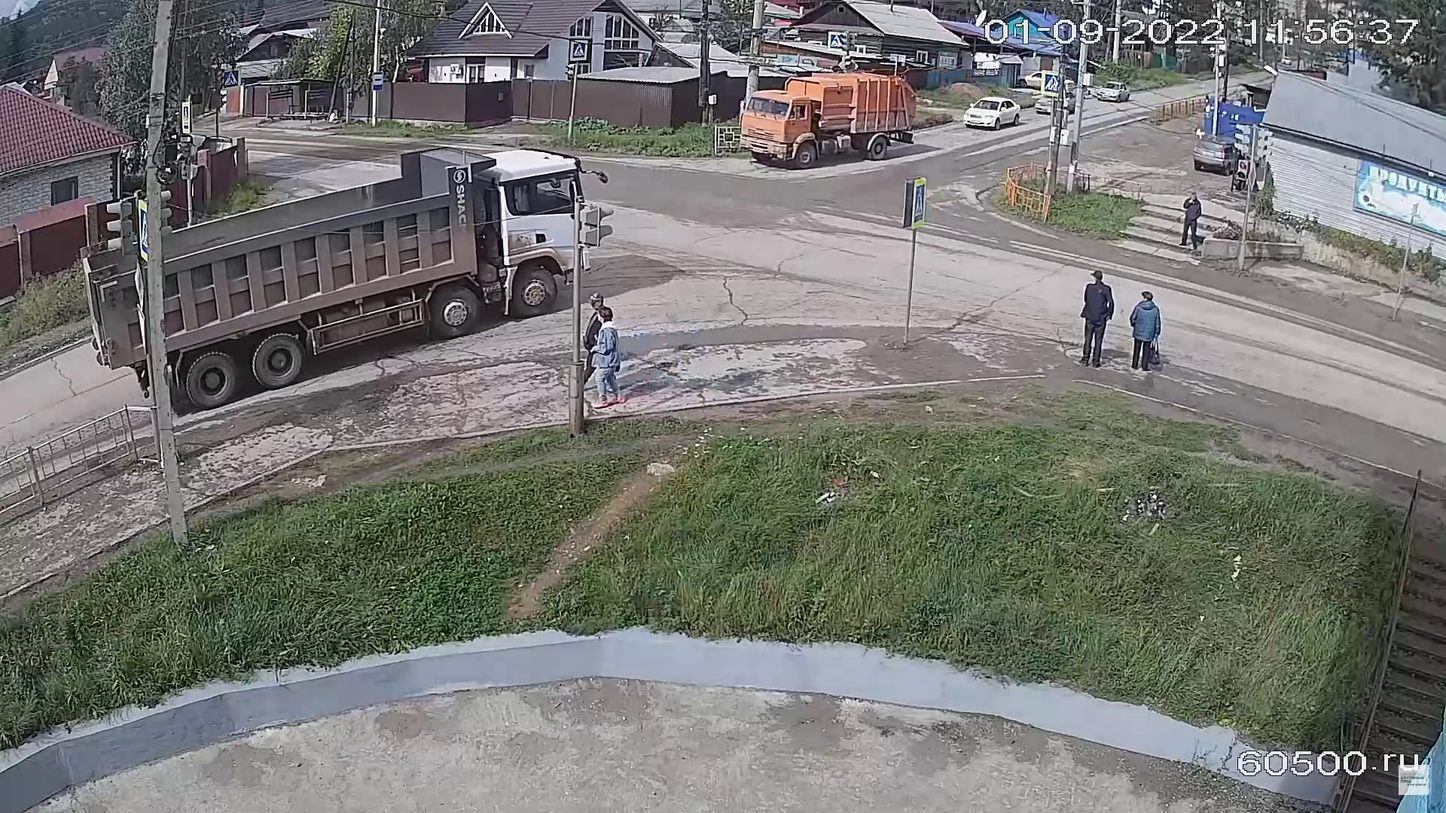car: (1193, 135, 1245, 175), (965, 96, 1021, 129), (1016, 69, 1076, 93), (1034, 90, 1079, 115), (1098, 81, 1130, 102)
pedestrian: (590, 304, 626, 410), (1078, 270, 1114, 370), (1127, 287, 1164, 370), (586, 292, 606, 393), (1181, 190, 1207, 248)
truck: (84, 136, 595, 428), (741, 71, 918, 169)
